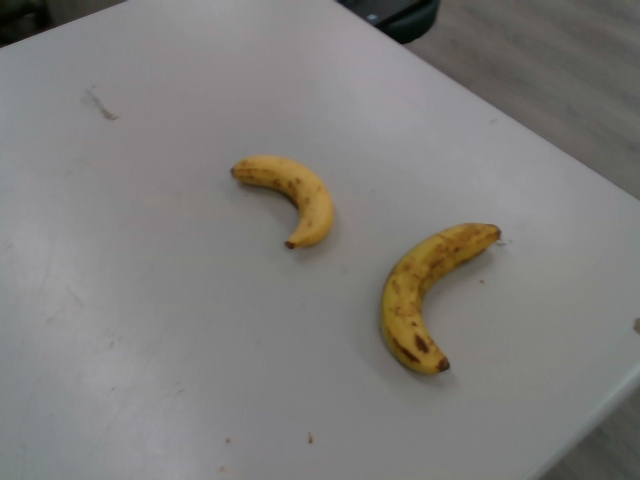banana: (379, 222, 502, 380), (229, 154, 335, 249)
